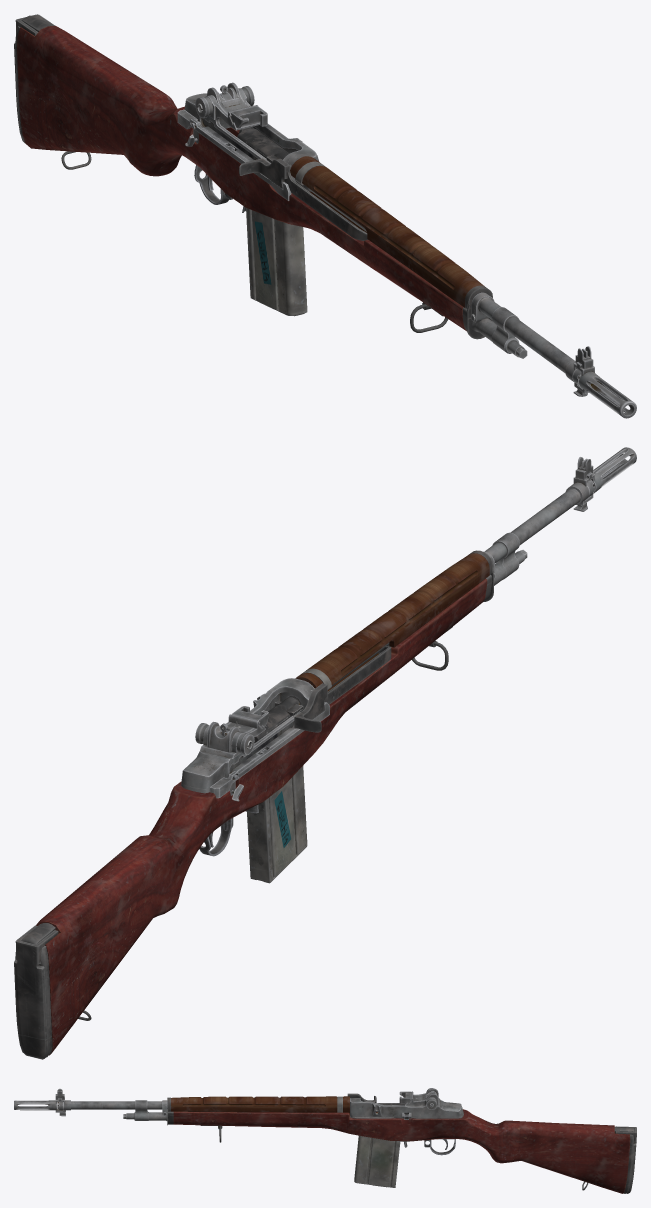
The picture shows the model from 3 angles, top to bottom: view 1: azimuth 30°, elevation 25°; view 2: azimuth 150°, elevation 25°; view 3: azimuth 270°, elevation 25°; orthographic projection. The views are drawn at different scales.
Parts seen in each view (by area): view 1: Object_2, Object_3; view 2: Object_2, Object_3; view 3: Object_2, Object_3.
Boxes of the visible parts, bbox=[...] form: Object_2: bbox=[14, 14, 492, 339]; Object_3: bbox=[177, 82, 636, 418]; Object_2: bbox=[14, 550, 493, 1059]; Object_3: bbox=[181, 447, 636, 856]; Object_2: bbox=[167, 1093, 636, 1193]; Object_3: bbox=[14, 1088, 463, 1155].
Size of the model in its own units: 0.0719 by 0.2019 by 1.12.
Materials: 2 (2 with a texture image).
